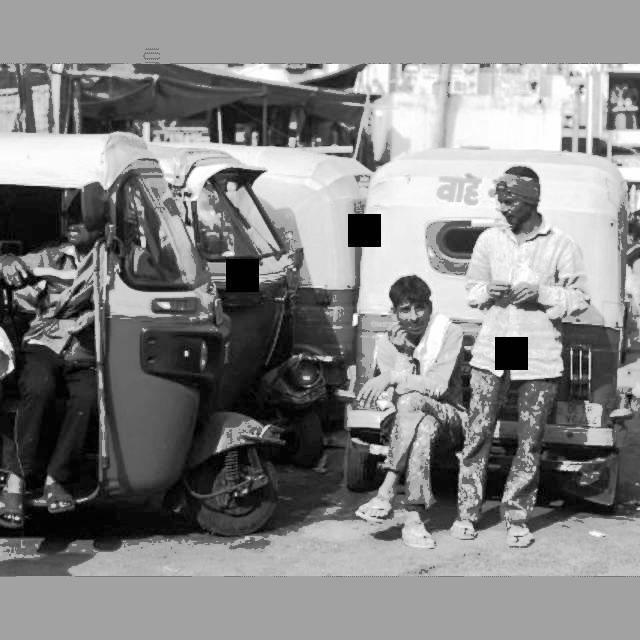Auto-Rickshaw: (2, 110, 286, 558), (349, 146, 640, 536), (150, 132, 362, 501)
